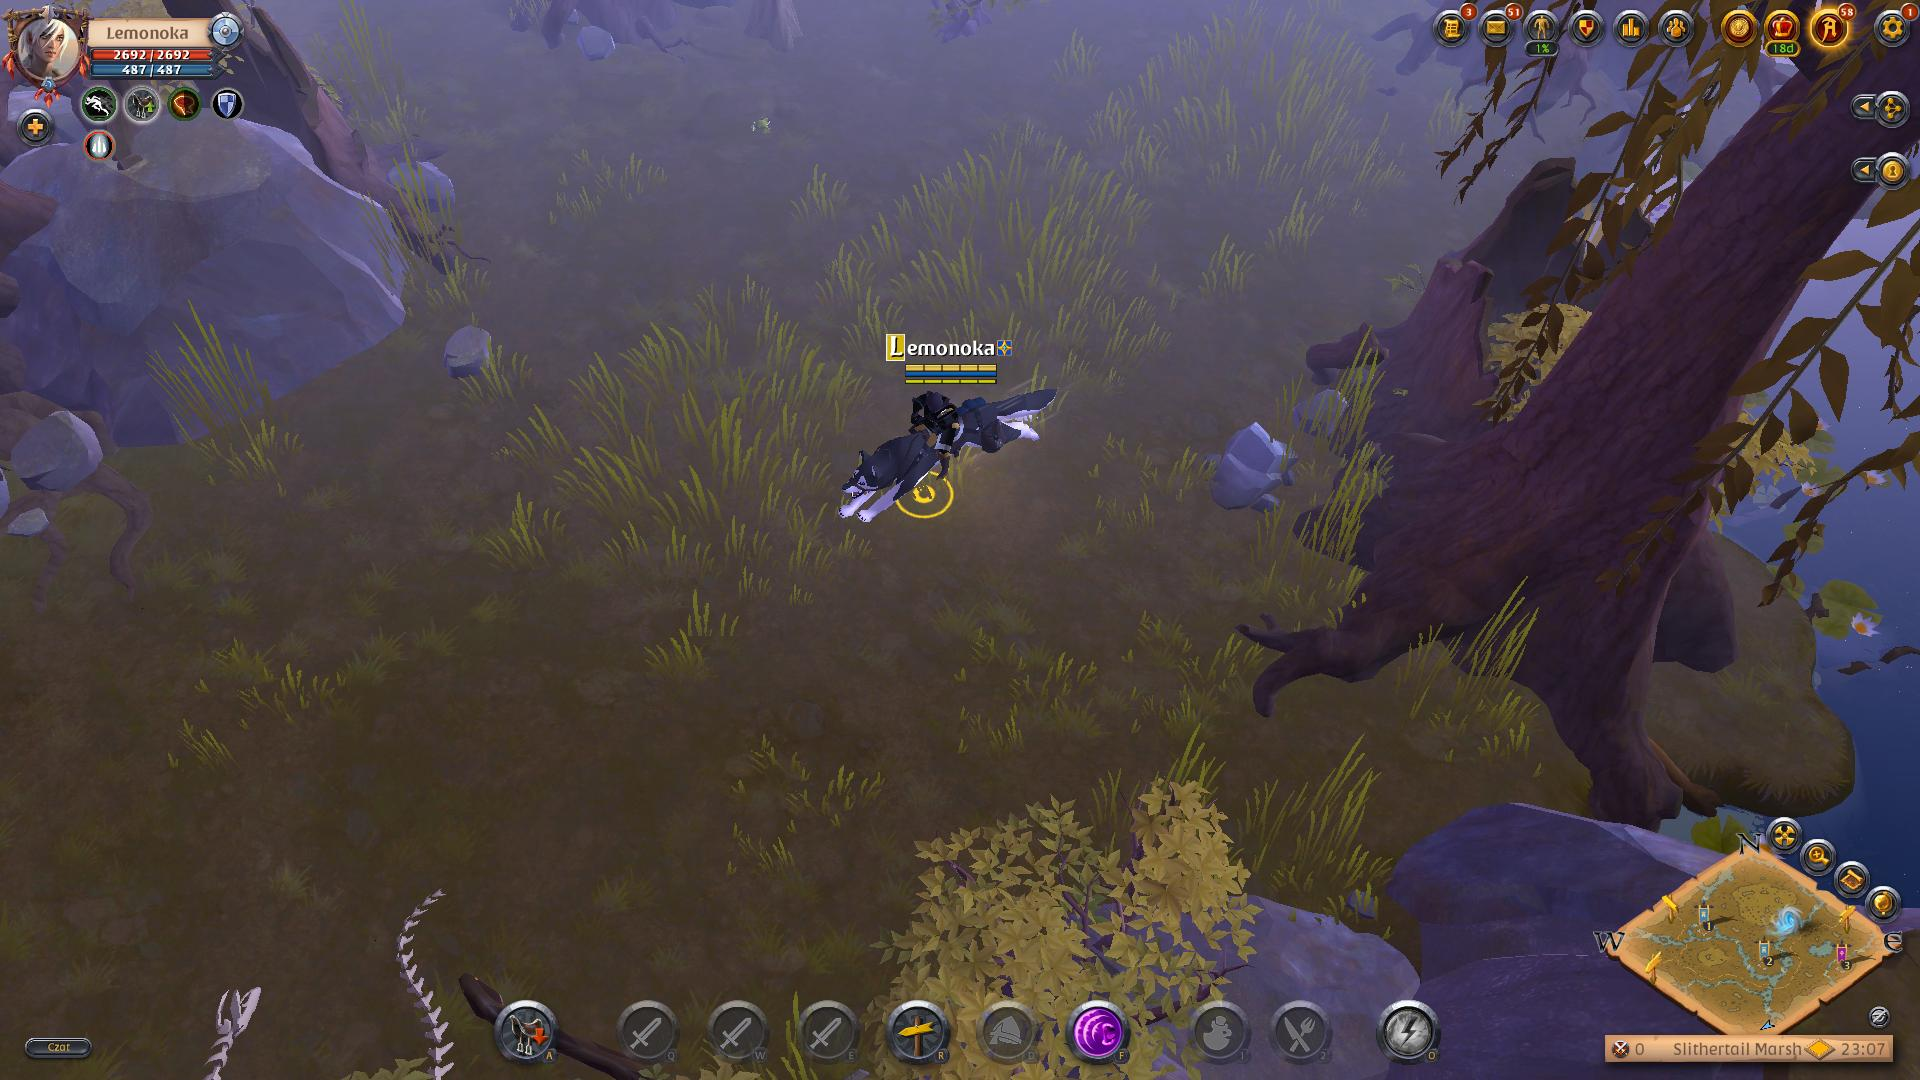rock tier 1: (1196, 415, 1302, 517)
